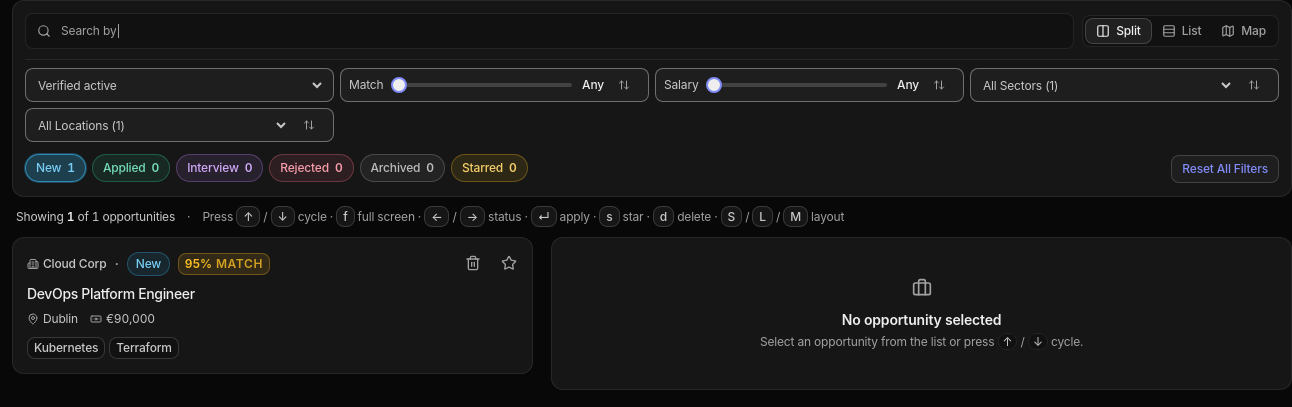
Scenario: JobsView Search Input › supports both sliders and resets their thresholds
The image size is (1292, 407).
Step 1. Set the slider named "Min Match" to "75" → {"x": 523, "y": 85}, box [392,69,572,101]
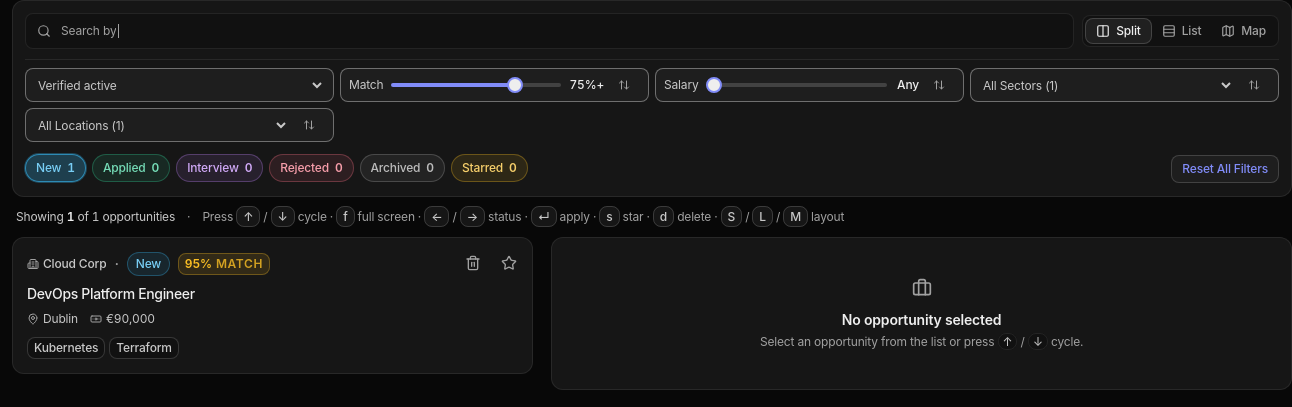
Step 2. Set the slider named "Salary" to "1" → {"x": 720, "y": 85}, box [706,69,887,101]
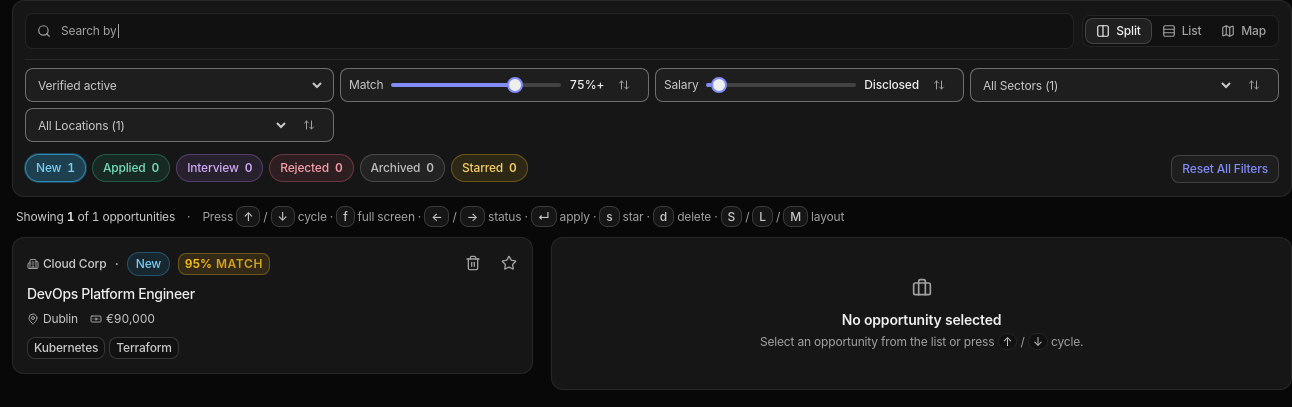
Now the slider named "Salary" has attribute aria-valuetext="Disclosed only"
Step 3. Set the slider named "Salary" to "8" → {"x": 749, "y": 85}, box [706,69,856,101]
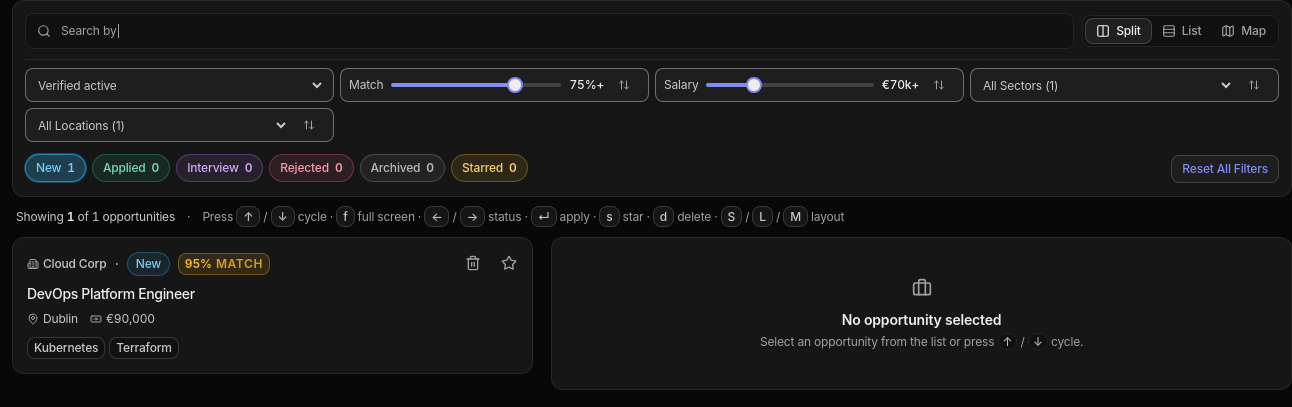
Step 4. Press ArrowRight in the slider named "Salary", box [706,69,874,101]
Now the slider named "Salary" has attribute aria-valuetext="€70k+"
Step 5. Set the slider named "Salary" to "2" → {"x": 724, "y": 85}, box [706,69,874,101]
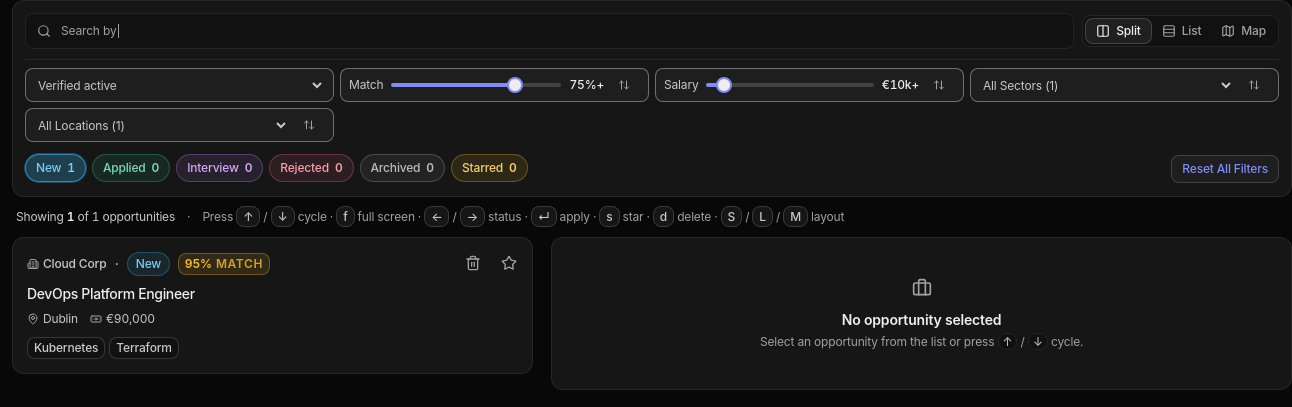
Now the slider named "Salary" has attribute aria-valuetext="€10k+"
Step 6. Set the slider named "Salary" to "31" → {"x": 866, "y": 85}, box [706,69,874,101]
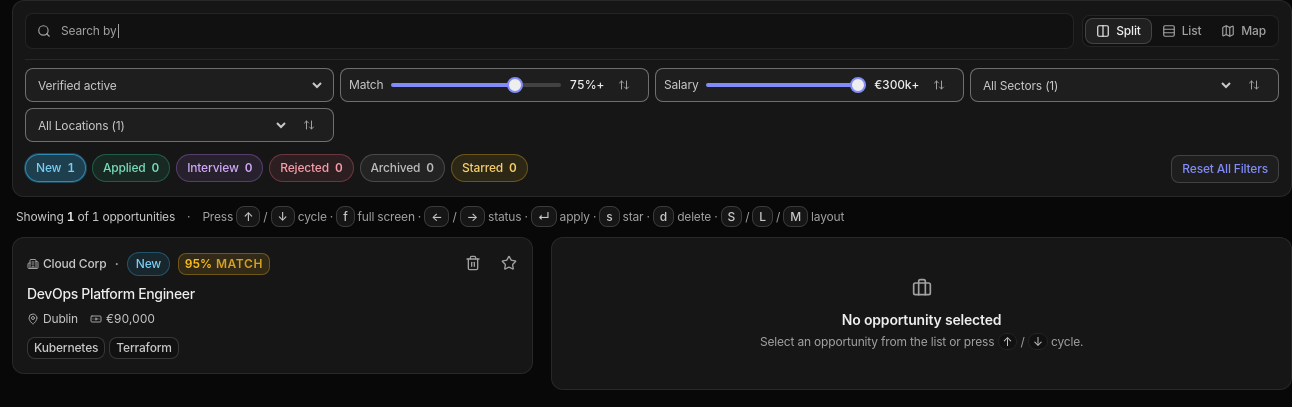
Step 7. Press End in the slider named "Salary", box [706,69,866,101]
Now the slider named "Salary" has attribute aria-valuetext="€300k+", box [706,69,866,101]
Step 8. Click the button "Reset All Filters" → {"x": 1225, "y": 169}, box [1171,155,1279,183]
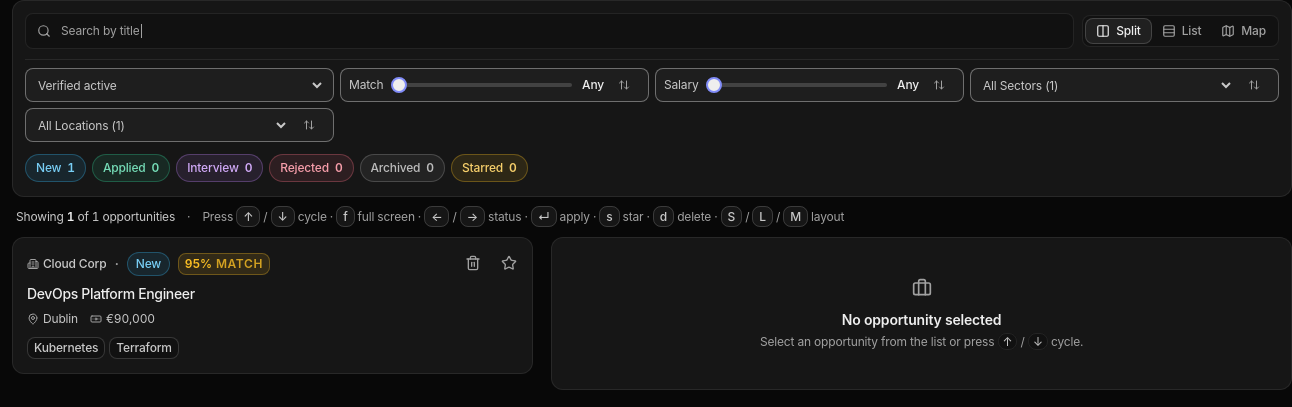
Now the slider named "Min Match" holds "0", box [392,69,572,101]
Now the slider named "Salary" holds "0", box [706,69,887,101]
